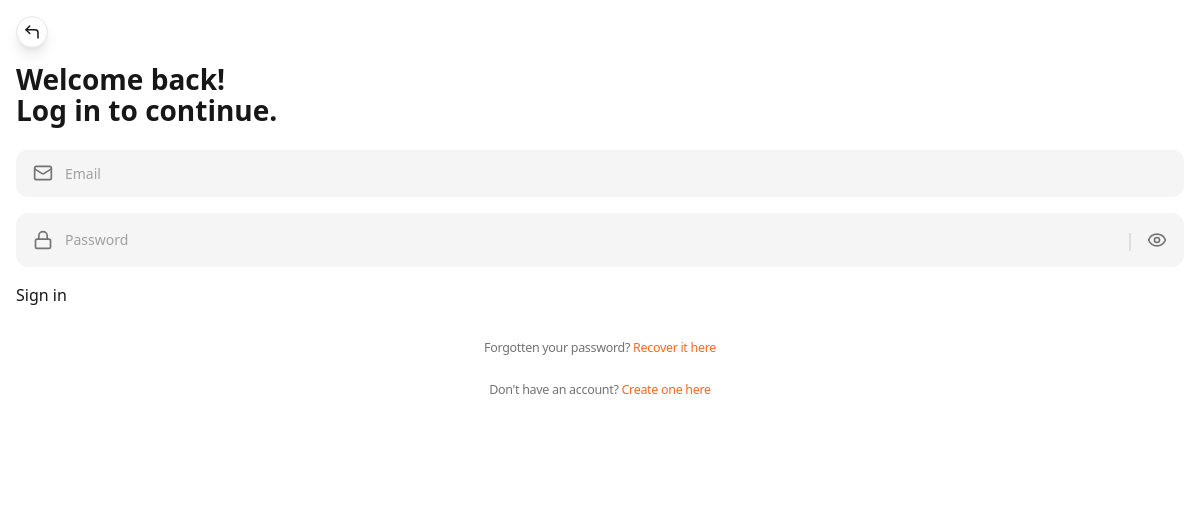
SignInForm › starts over when the email changes
Type "admin@campusmart.test" into the field with placeholder "Email".
click(616, 173); type("admin@campusmart.test")  # box [65,163,1167,184]
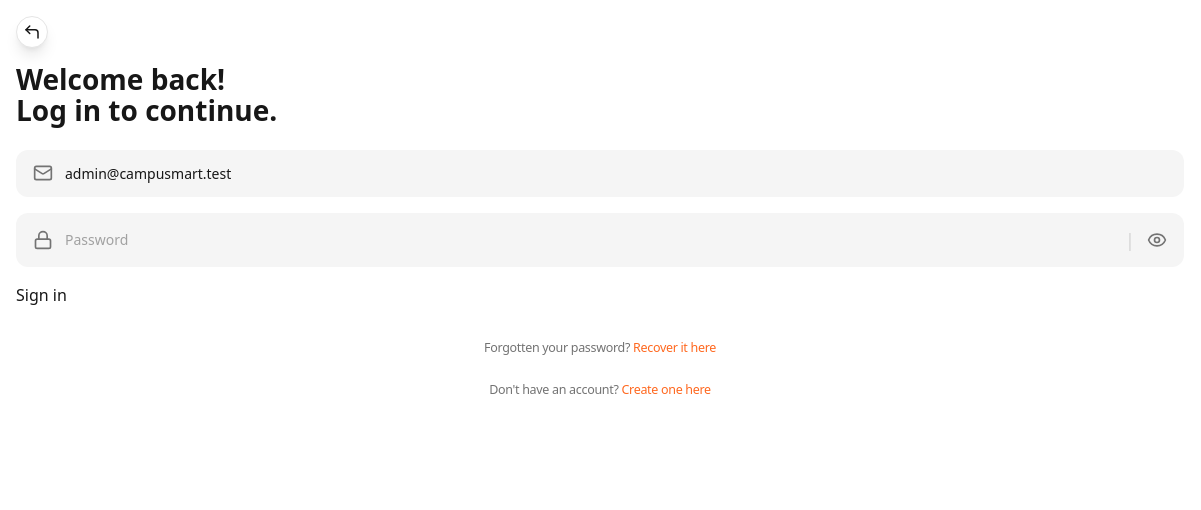
Type "LocalAdmin123" into the password field with placeholder "Password".
click(593, 240); type("LocalAdmin123")  # box [65,229,1121,250]
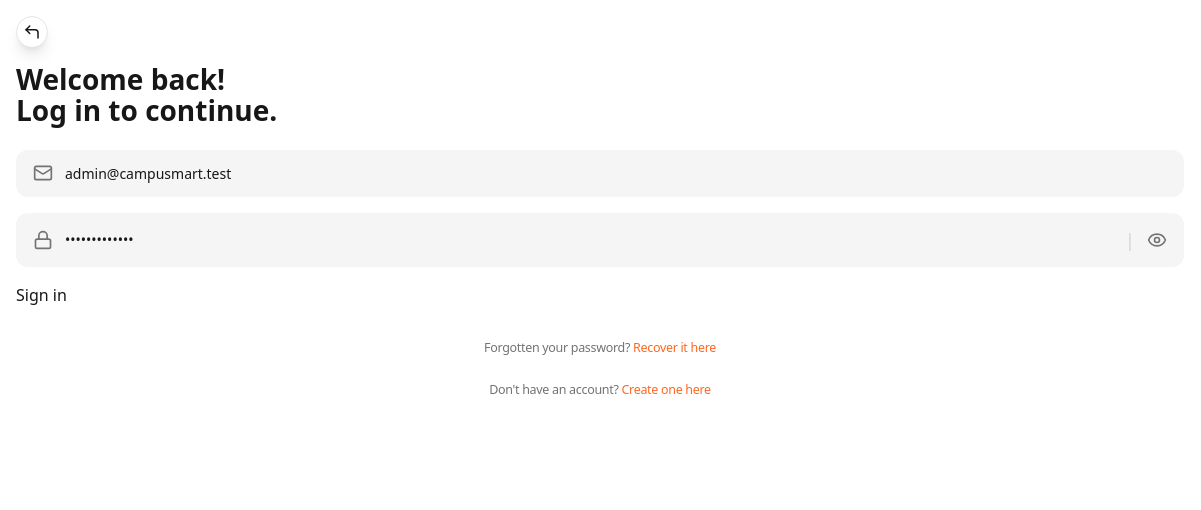
Click the button "Sign in".
click(41, 295)  # box [16,283,67,307]
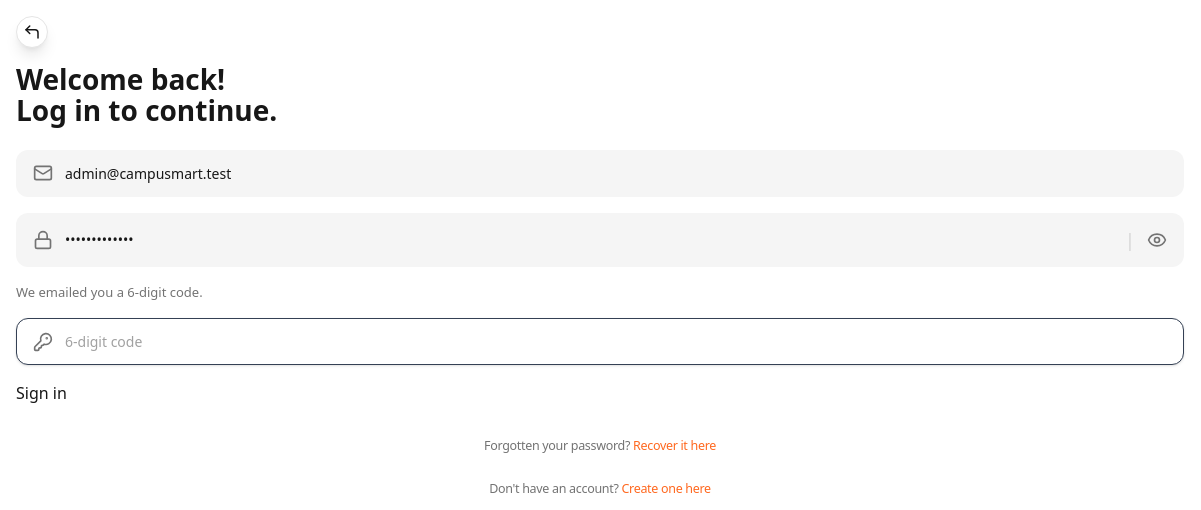
expect the field with placeholder "6-digit code" is shown: met, box [65,331,1167,352]
Replace the text in the field with placeholder "Email" with "other@campusmart.test" at (616, 173), box [65,163,1167,184]
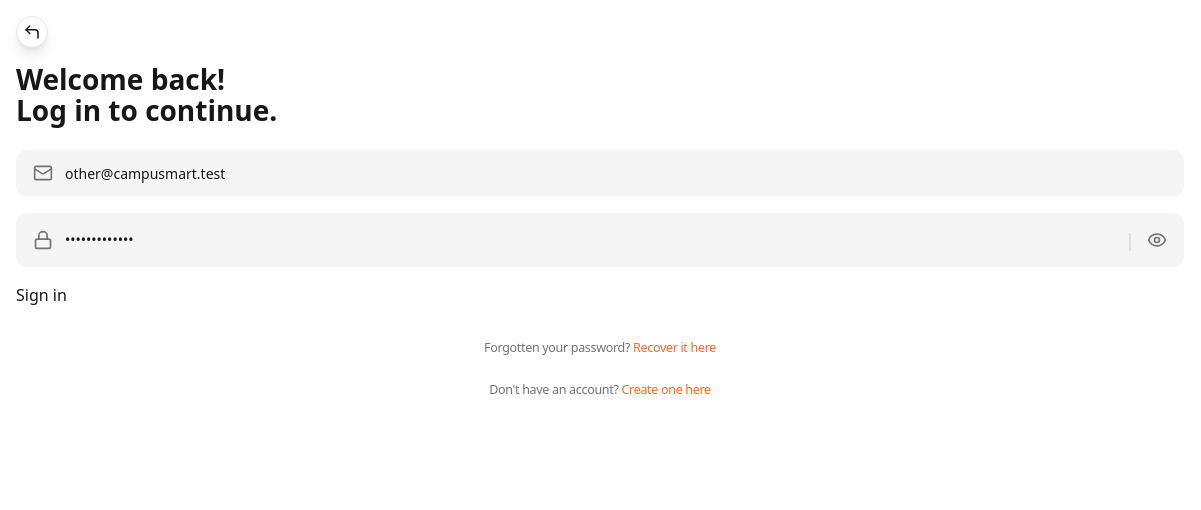
expect the message with placeholder "6-digit code" is gone: met
